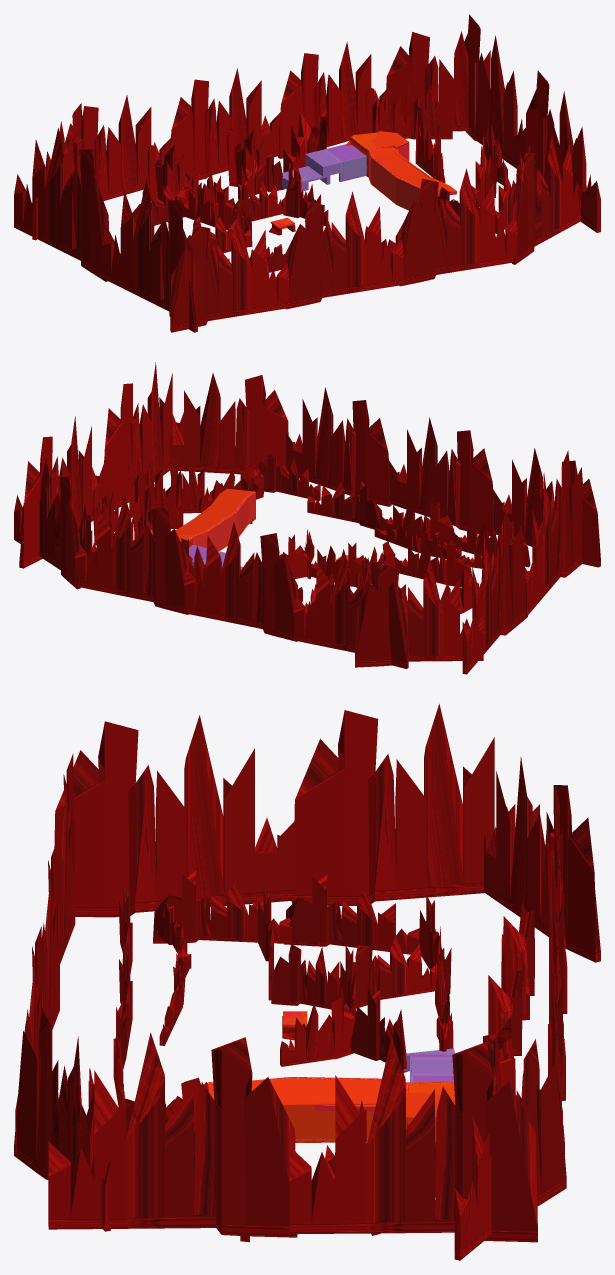
3 renders of one model, top to bottom at view 1: azimuth 30°, elevation 25°; view 2: azimuth 150°, elevation 25°; view 3: azimuth 270°, elevation 25°, orthographic. The views are drawn at different scales.
Visible parts, largest first — view 1: Cube.041, Cube.015, Cube.013, Cube.003, Cube.012; view 2: Cube.041, Cube.015; view 3: Cube.041, Cube.015, Cube.003, Cube.013.
Part boxes in pixels (left/top/right/bottom): Cube.041: left=14, top=14, right=600, bottom=332; Cube.015: left=350, top=132, right=456, bottom=210; Cube.013: left=305, top=144, right=366, bottom=181; Cube.003: left=345, top=131, right=439, bottom=196; Cube.012: left=284, top=166, right=330, bottom=191; Cube.041: left=14, top=362, right=600, bottom=674; Cube.015: left=175, top=488, right=255, bottom=551; Cube.041: left=14, top=704, right=600, bottom=1260; Cube.015: left=208, top=1077, right=455, bottom=1111; Cube.003: left=282, top=1092, right=440, bottom=1142; Cube.013: left=410, top=1059, right=453, bottom=1082.
Size of the model in its own units: 4.95 by 1.32 by 3.27.
3 materials, 3 textured.
